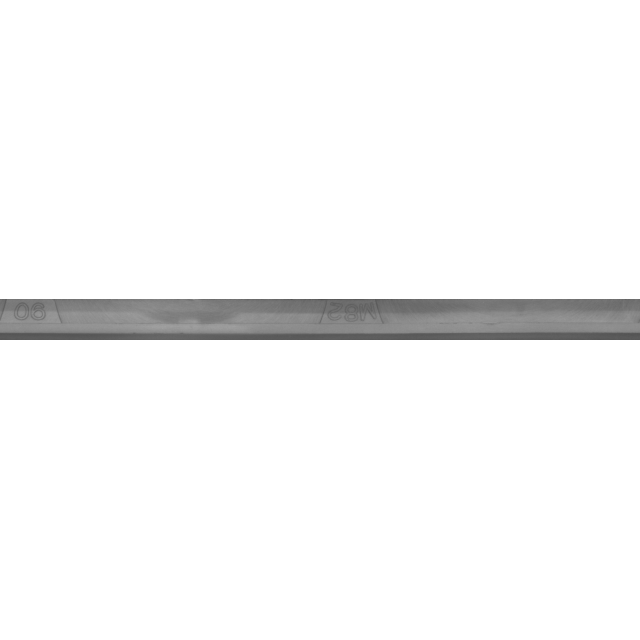mohao: (252, 270, 452, 370)
xuehao: (0, 270, 128, 370)
